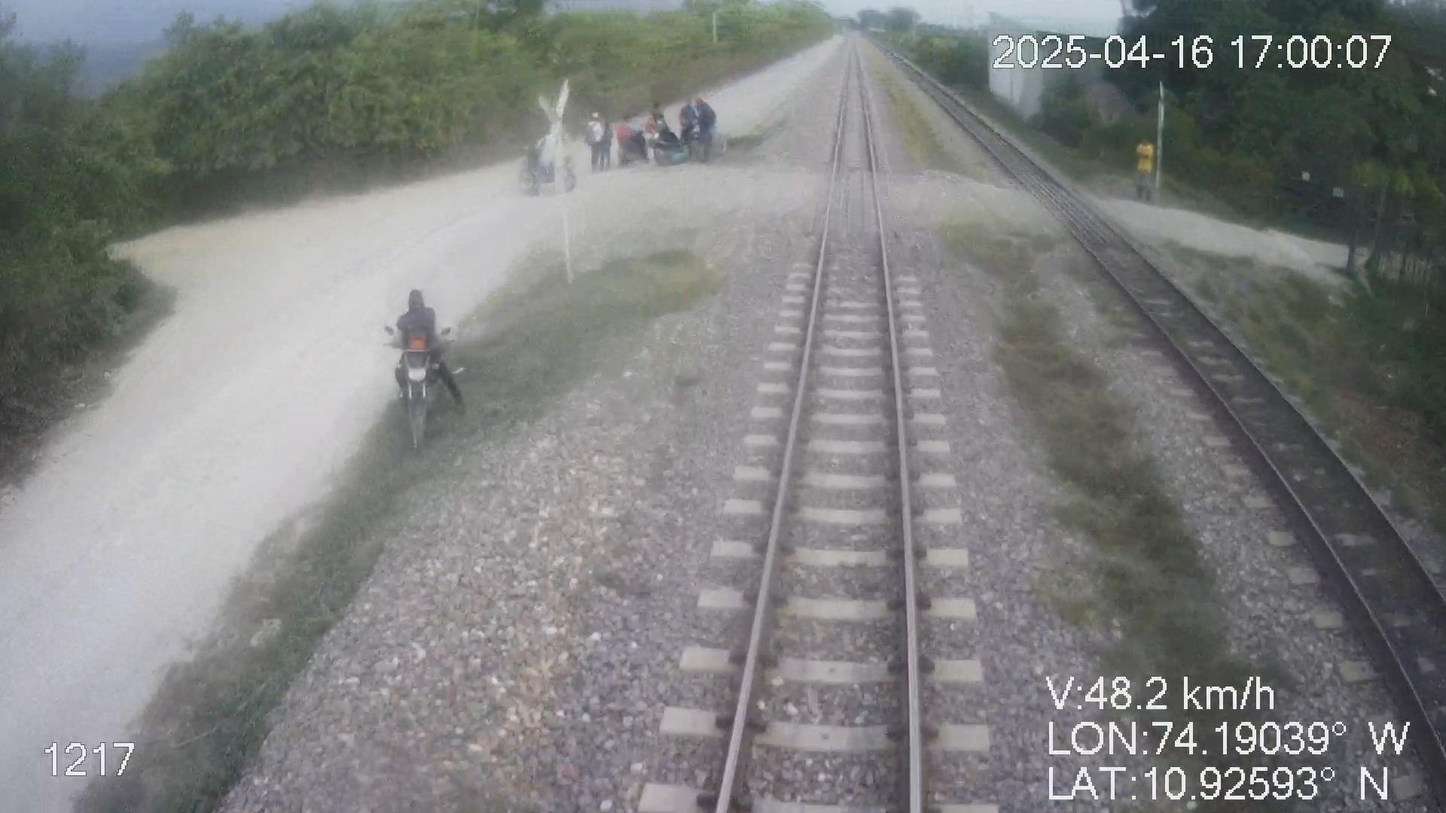Pasto: (0, 0, 839, 457), (856, 0, 1445, 603)
